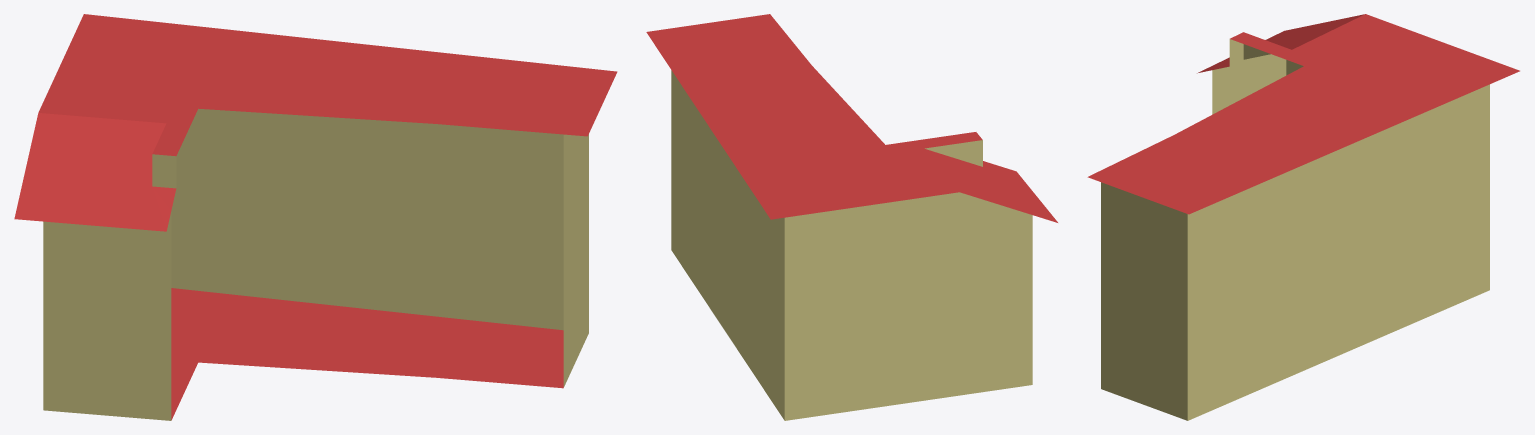
3 renders of one model, left to right at view 1: azimuth 30°, elevation 25°; view 2: azimuth 150°, elevation 25°; view 3: azimuth 270°, elevation 25°, orthographic. The views are drawn at different scales.
Bounding box in the file's own units: 12.86 × 10.22 × 5.69.
